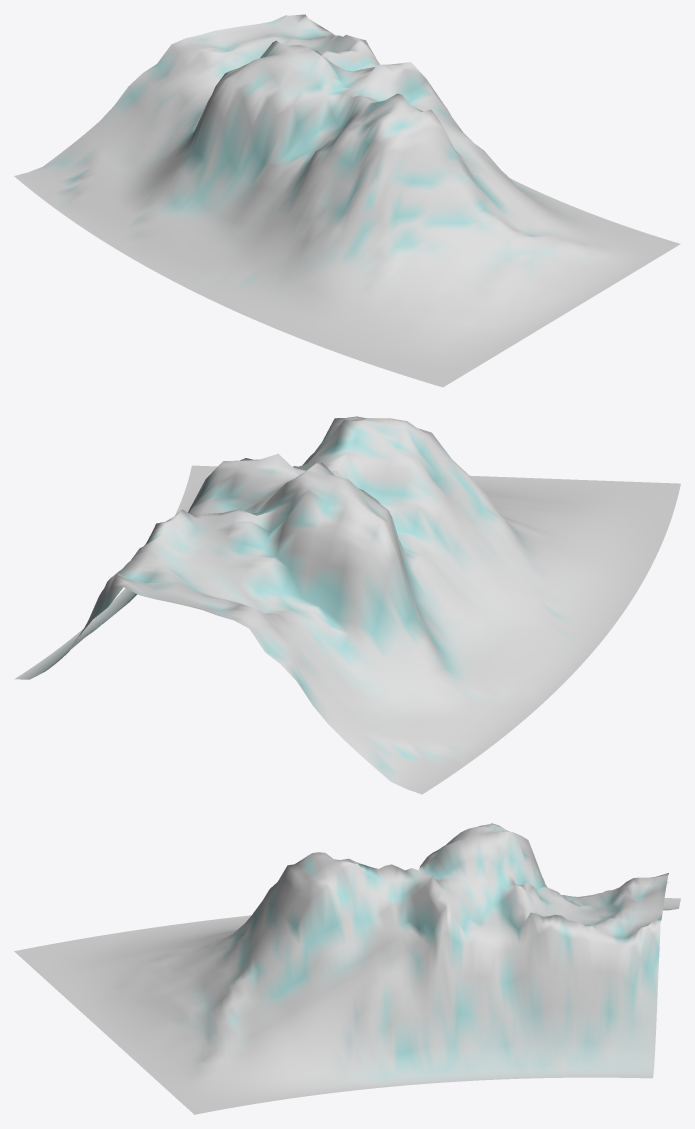
Rendered from far_0.glb.
The picture shows the model from 3 angles, top to bottom: view 1: azimuth 30°, elevation 25°; view 2: azimuth 150°, elevation 25°; view 3: azimuth 270°, elevation 25°; orthographic projection. The views are drawn at different scales.
Parts seen in each view (by area): view 1: Mountain; view 2: Mountain; view 3: Mountain.
Part boxes in pixels (x1,y1,x2,y2): Mountain: (14,14,680,387); Mountain: (14,416,680,794); Mountain: (14,823,680,1114).
Size of the model in its own units: 1206 by 406 by 1562.
